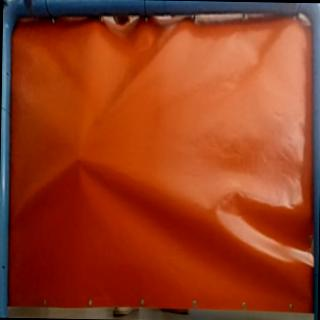Hit-hRxx: (72, 153, 88, 166)
